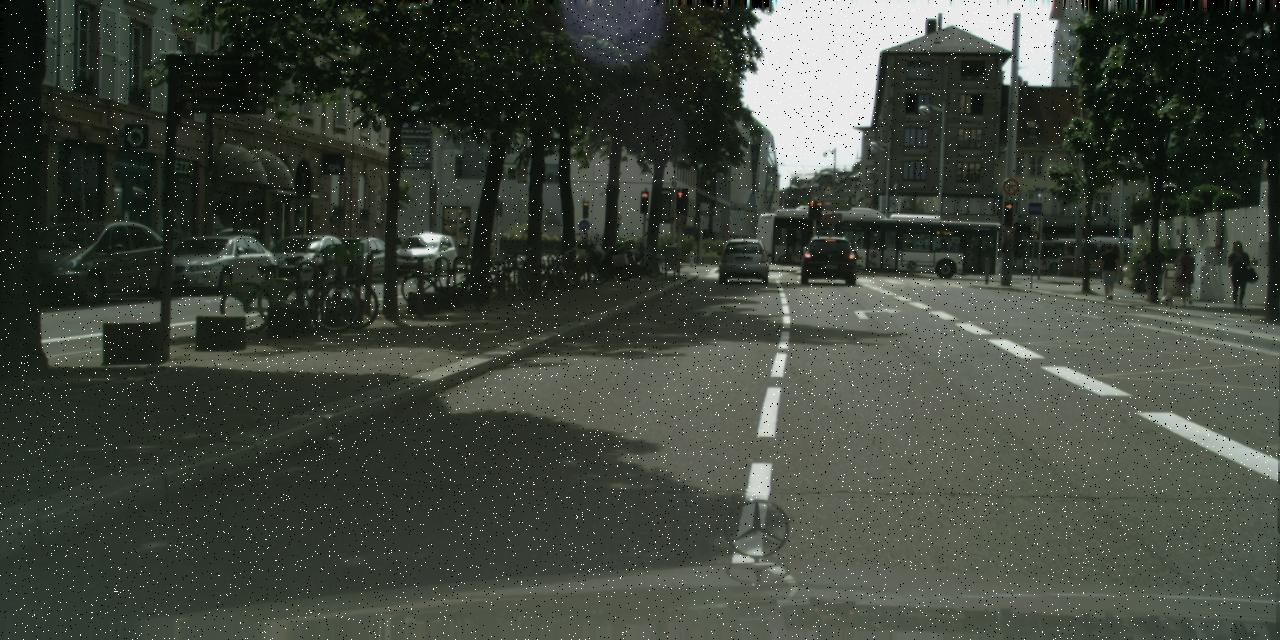ped: (1224, 240, 1252, 309), (1175, 246, 1199, 305), (1096, 242, 1120, 300), (1142, 243, 1165, 300)
